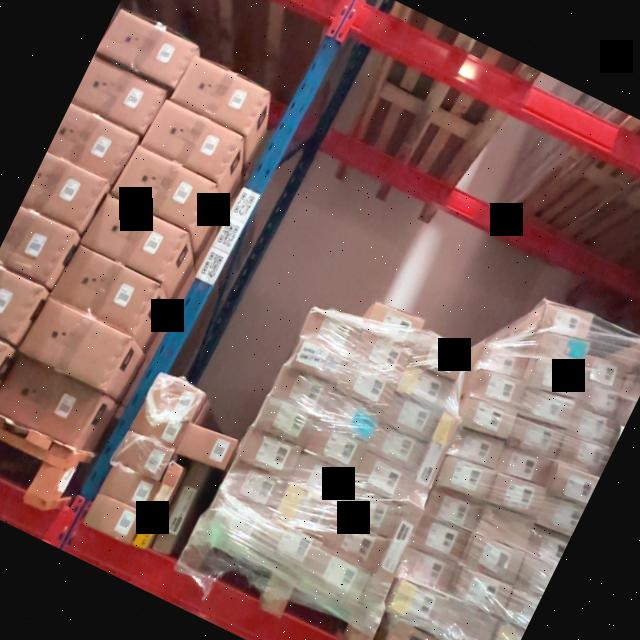box: (21, 298, 138, 395), (0, 353, 103, 449), (54, 246, 160, 336), (355, 498, 430, 616), (114, 147, 216, 232), (85, 195, 186, 280), (96, 8, 195, 90), (143, 101, 240, 183), (173, 54, 268, 135), (72, 56, 166, 136), (47, 103, 137, 182), (21, 152, 106, 233), (150, 458, 212, 560), (400, 409, 463, 506), (0, 206, 74, 287), (130, 458, 186, 552), (316, 512, 388, 572), (300, 546, 372, 606), (333, 480, 403, 538), (235, 425, 302, 483), (252, 520, 320, 576), (446, 564, 512, 620), (349, 449, 415, 504), (462, 530, 526, 586), (304, 422, 368, 477), (220, 458, 285, 512), (318, 392, 383, 446), (334, 360, 398, 414), (524, 350, 588, 404), (252, 396, 315, 450), (273, 484, 336, 538), (0, 264, 42, 345), (268, 365, 330, 419), (408, 510, 470, 564), (351, 327, 413, 381), (290, 452, 352, 506), (435, 452, 497, 505), (364, 298, 426, 351), (114, 430, 174, 484), (409, 328, 470, 381), (457, 390, 518, 443), (364, 422, 426, 474), (446, 422, 508, 474), (516, 381, 578, 433), (178, 421, 238, 474), (487, 472, 548, 524), (397, 544, 458, 596), (380, 390, 440, 442), (394, 360, 454, 412), (506, 411, 566, 463), (422, 484, 484, 534), (467, 363, 526, 415), (286, 336, 346, 387), (474, 502, 535, 552), (145, 372, 204, 423), (302, 306, 362, 356), (386, 580, 444, 631), (538, 298, 596, 348), (536, 326, 594, 376), (496, 443, 555, 492), (101, 464, 158, 514), (84, 493, 141, 543), (429, 598, 496, 640), (128, 402, 186, 450), (476, 336, 534, 384), (555, 430, 610, 478), (564, 403, 620, 450), (206, 490, 265, 534), (545, 462, 597, 510), (533, 492, 584, 540), (574, 378, 624, 422), (582, 354, 632, 396), (512, 555, 554, 599), (523, 528, 567, 570), (500, 588, 539, 632), (487, 620, 524, 640), (624, 374, 640, 406)
